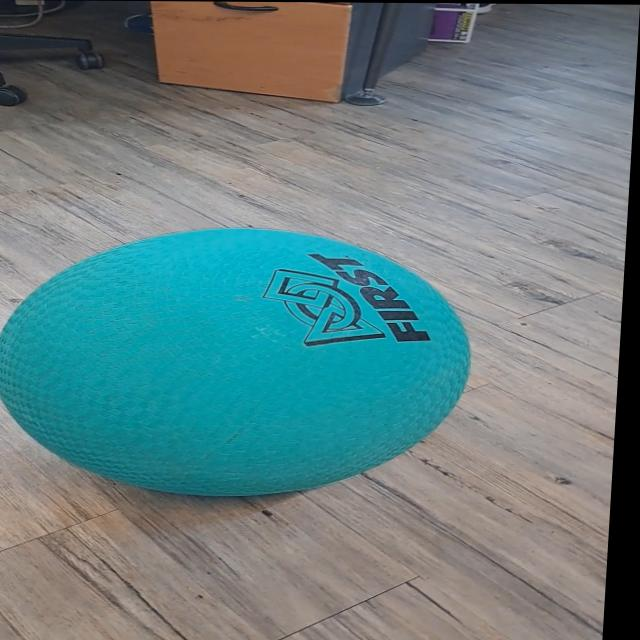ALGAE: (0, 224, 480, 500)
